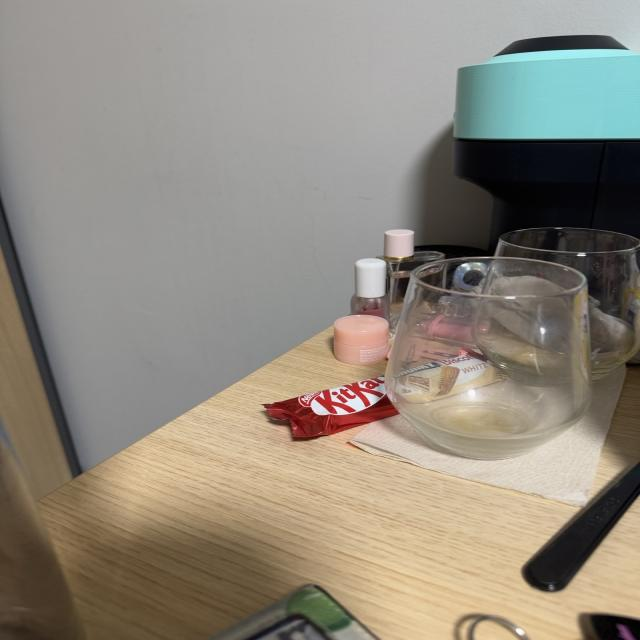chocolate: (260, 347, 510, 444)
